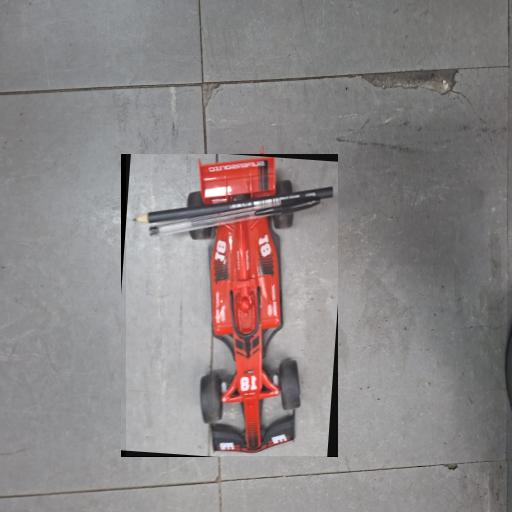carro: (126, 154, 338, 456)
